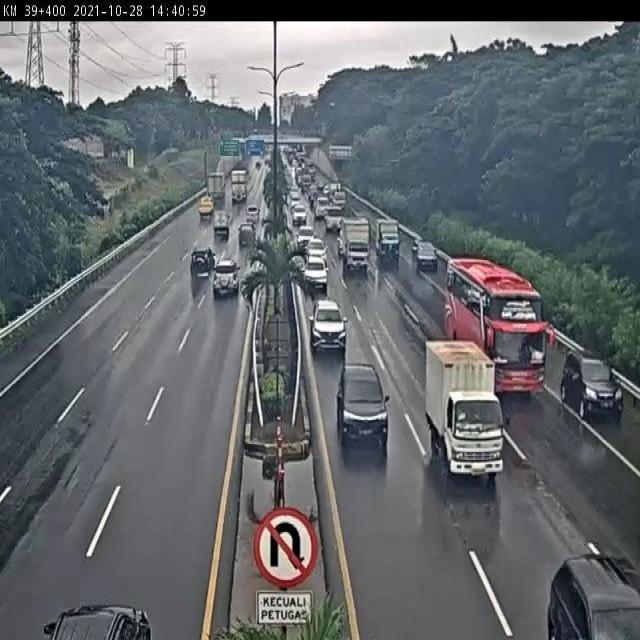bus-l-: (444, 256, 547, 396)
car: (561, 348, 624, 420), (337, 363, 387, 440), (309, 297, 349, 352), (210, 258, 241, 298), (302, 258, 330, 294), (189, 245, 215, 278)
truck-m-: (424, 337, 505, 479)
